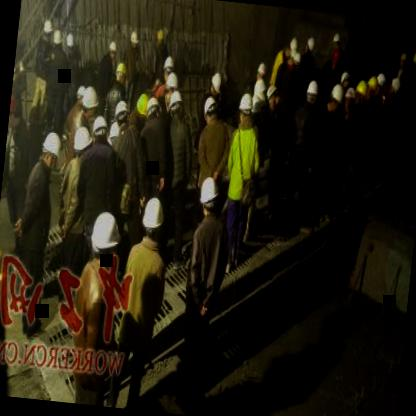helmet: (86, 205, 124, 269), (134, 190, 167, 250), (196, 170, 224, 222), (38, 129, 63, 174), (320, 81, 346, 121), (233, 87, 256, 128), (70, 122, 94, 160), (78, 84, 102, 120), (88, 110, 110, 149), (198, 93, 221, 130), (204, 64, 226, 102), (144, 90, 165, 127), (166, 88, 188, 122), (112, 98, 134, 131), (338, 83, 358, 116), (132, 91, 151, 125), (162, 70, 182, 100), (302, 76, 320, 108), (8, 89, 22, 128), (385, 74, 403, 104), (160, 52, 178, 81), (38, 11, 53, 45), (264, 82, 282, 110), (352, 77, 370, 105), (362, 72, 380, 100), (111, 60, 129, 86), (326, 47, 344, 72), (52, 22, 66, 54), (373, 71, 388, 97), (303, 32, 317, 56), (330, 27, 344, 48), (105, 38, 118, 60), (254, 60, 267, 80), (12, 58, 20, 85), (410, 45, 416, 70)
